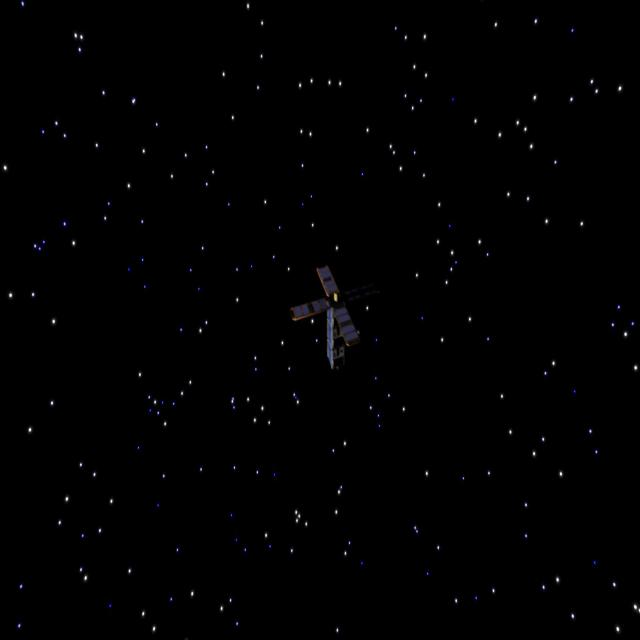satellite: (281, 263, 370, 373)
